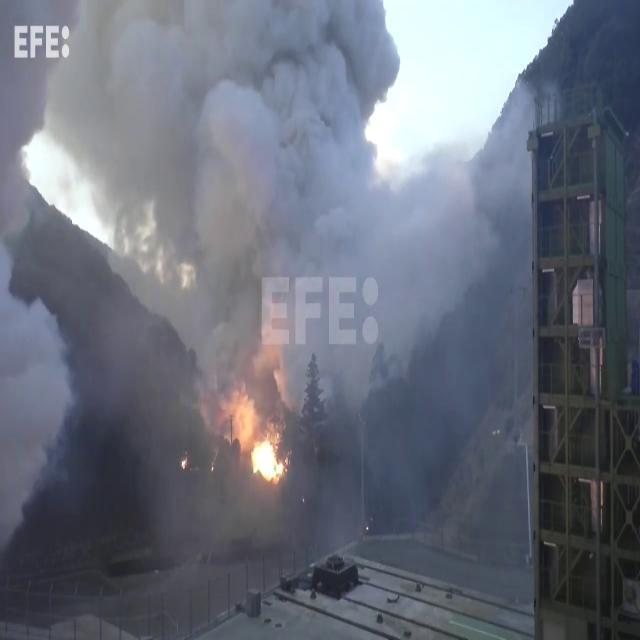Fire: (221, 382, 289, 485)
Smoke: (57, 0, 502, 410), (0, 75, 78, 528)
